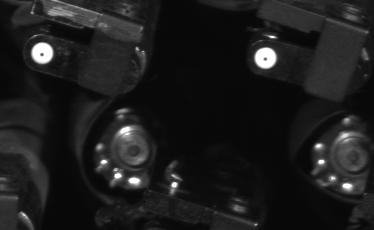fiber: (28, 39, 59, 69), (249, 45, 282, 73)
